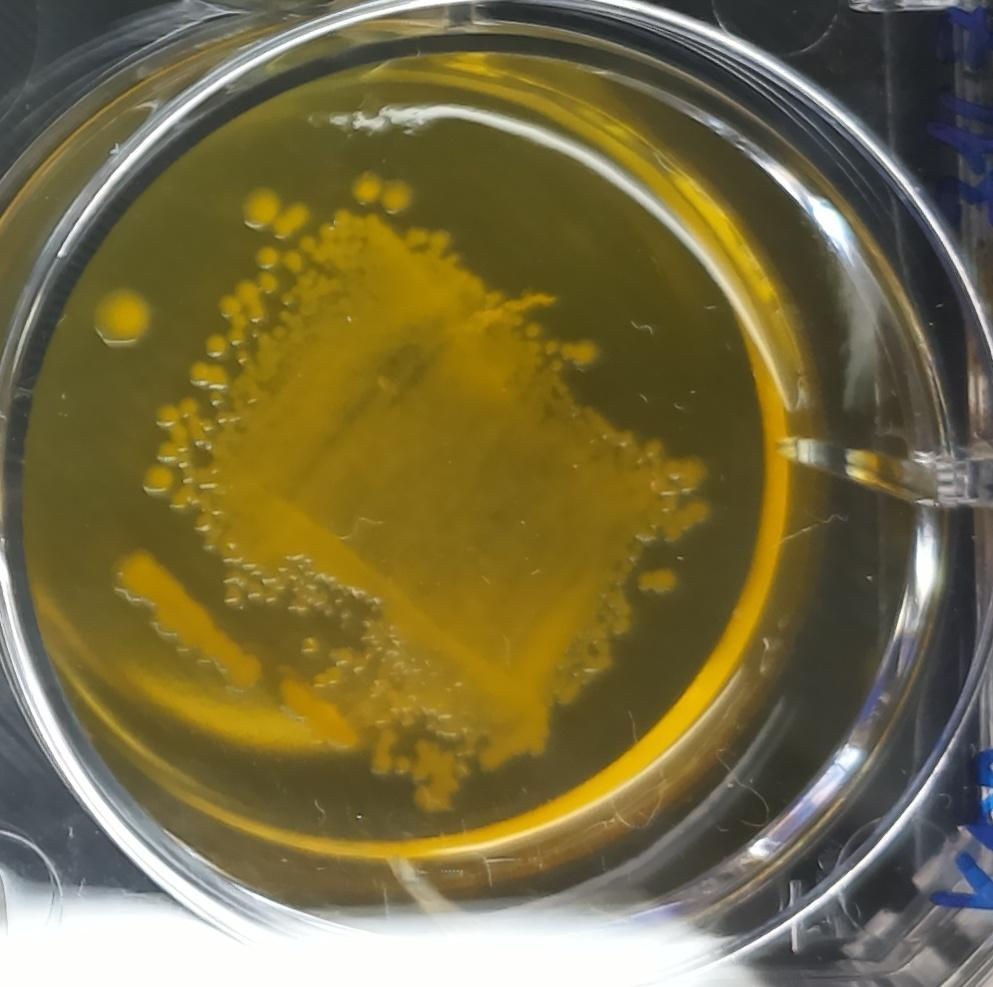vharveyi: (111, 552, 263, 694), (278, 677, 359, 755), (89, 273, 160, 361), (408, 736, 469, 796), (661, 493, 712, 547), (218, 277, 265, 330), (237, 186, 285, 234), (291, 580, 337, 621), (382, 178, 421, 219), (276, 196, 311, 240), (328, 643, 375, 675), (558, 333, 603, 366), (185, 357, 229, 390), (635, 563, 679, 596), (352, 166, 387, 206), (665, 454, 711, 484), (406, 222, 451, 250), (140, 463, 175, 498), (373, 729, 398, 777), (331, 207, 367, 234), (252, 241, 282, 271), (316, 220, 338, 257), (299, 634, 326, 663), (152, 401, 178, 428), (156, 438, 182, 464), (255, 270, 280, 296), (222, 585, 248, 609), (281, 250, 304, 276), (177, 393, 200, 416), (204, 334, 226, 356), (226, 326, 248, 347), (300, 234, 316, 255)
